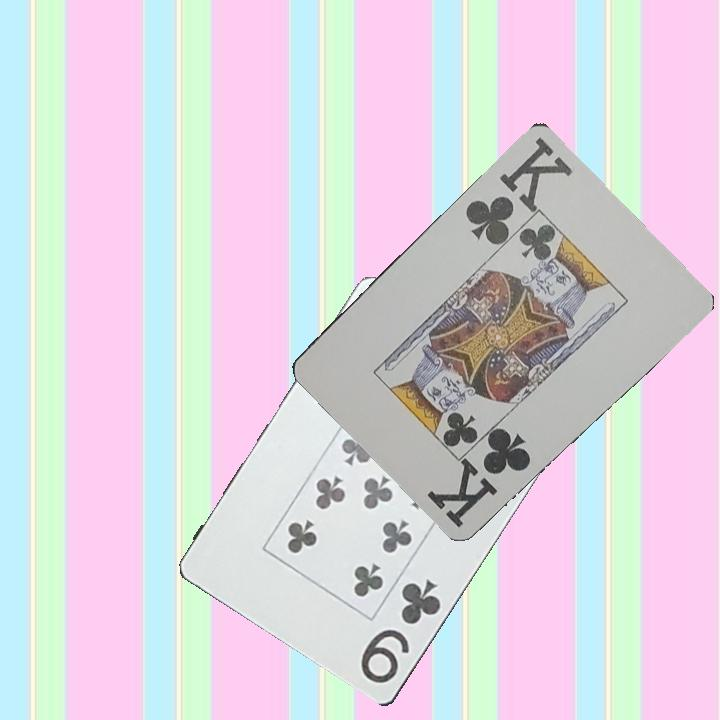9c: (357, 575, 445, 688)
Kc: (461, 132, 575, 247), (429, 425, 536, 530)
